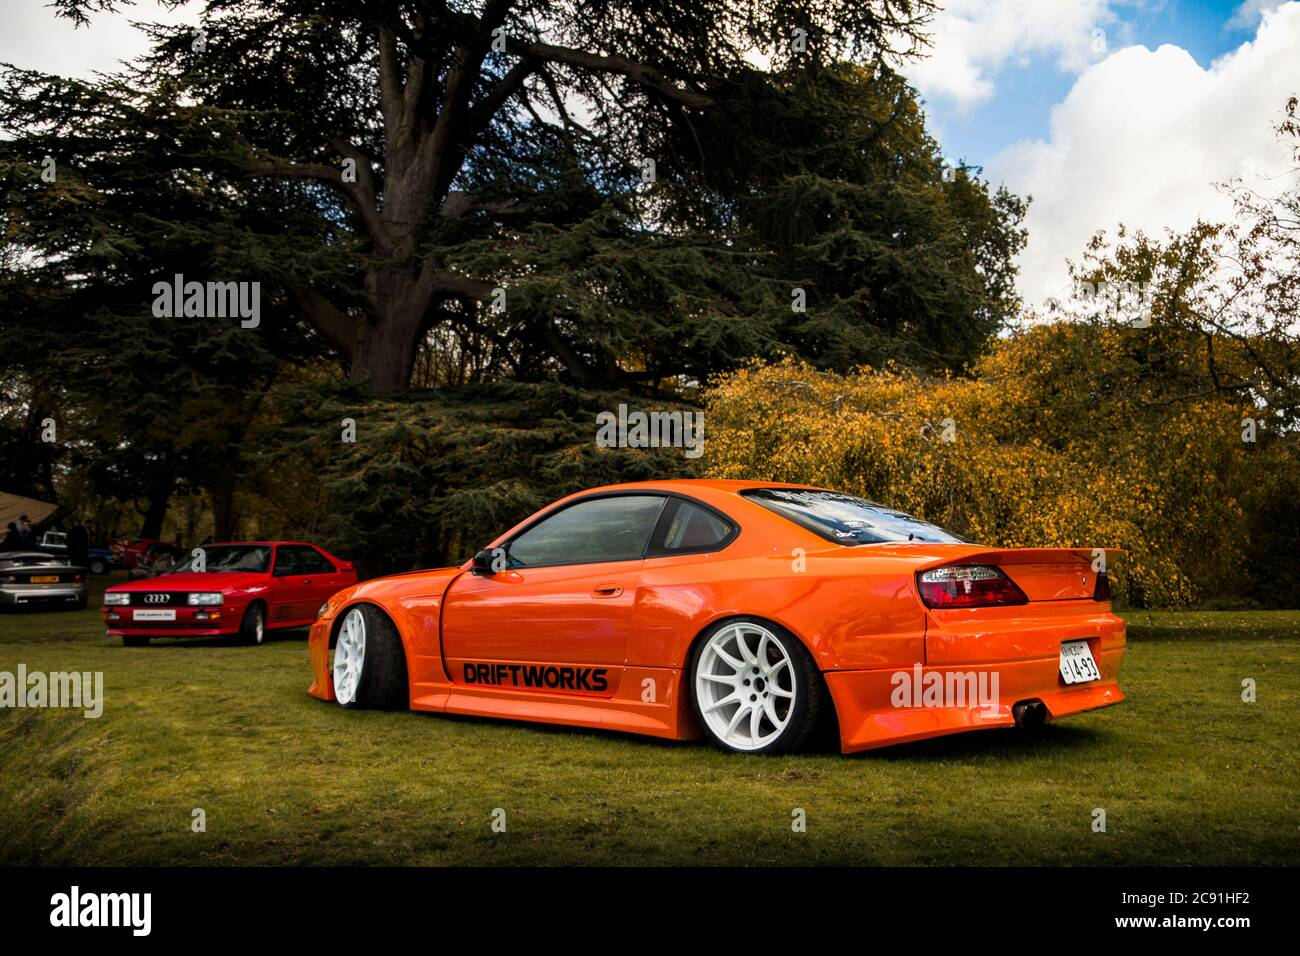car: (295, 473, 1132, 761), (97, 538, 360, 656), (1, 539, 88, 613)
